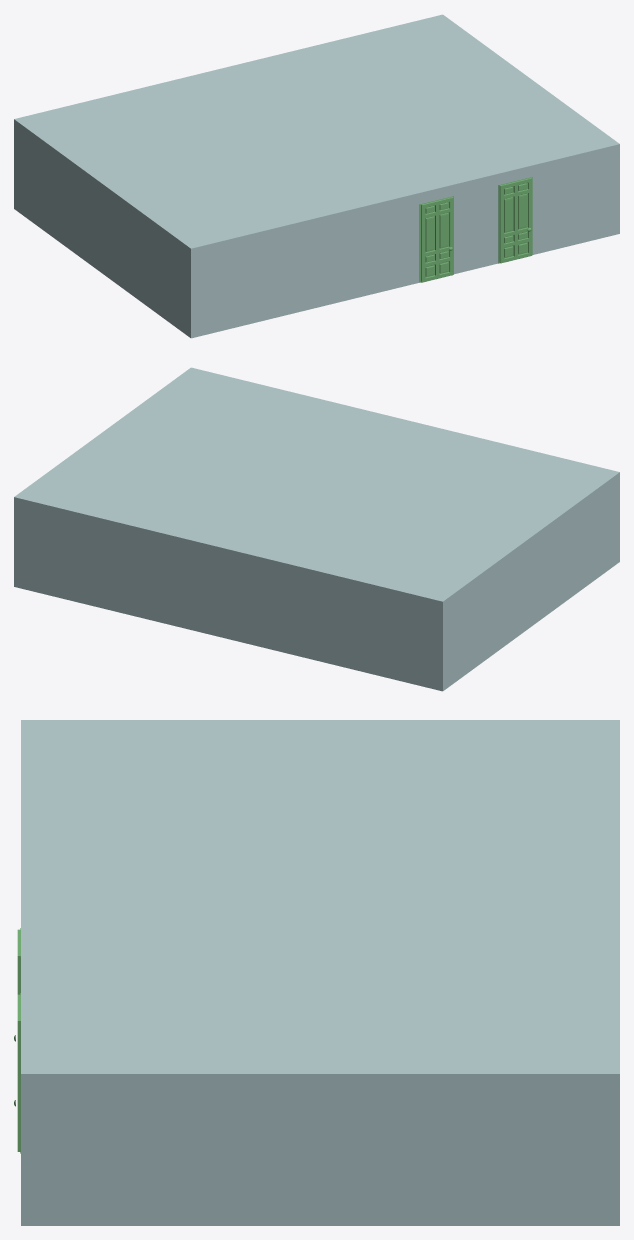
Rendered from Room 5.glb.
The picture shows the model from 3 angles, top to bottom: view 1: azimuth 30°, elevation 25°; view 2: azimuth 150°, elevation 25°; view 3: azimuth 270°, elevation 25°; orthographic projection. The views are drawn at different scales.
Visible parts, largest first — view 1: Mesh_Mesh_head_geo.001_lambert2SG.001; view 2: Mesh_Mesh_head_geo.001_lambert2SG.001; view 3: Mesh_Mesh_head_geo.001_lambert2SG.001.
Part boxes in pixels (left/top/right/bottom): Mesh_Mesh_head_geo.001_lambert2SG.001: left=14, top=14, right=619, bottom=338; Mesh_Mesh_head_geo.001_lambert2SG.001: left=14, top=367, right=619, bottom=691; Mesh_Mesh_head_geo.001_lambert2SG.001: left=14, top=720, right=619, bottom=1225.
Bounding box in the file's own units: 60 × 12 × 43.41.
